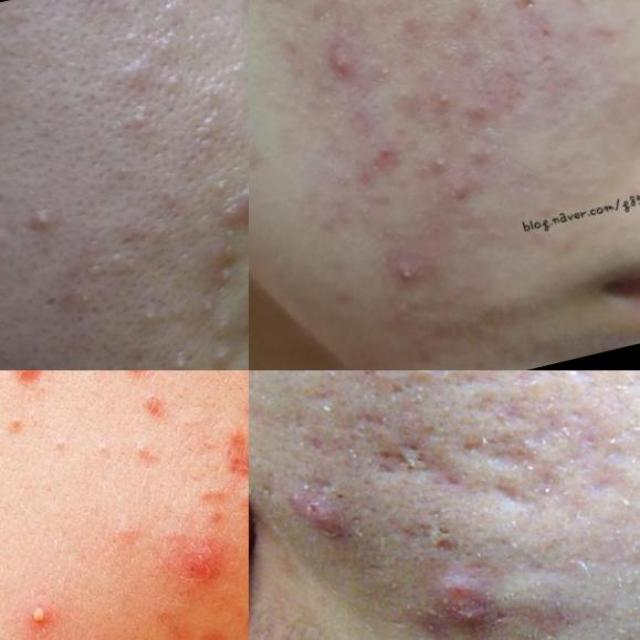acne_scars: (461, 428, 538, 483), (374, 442, 448, 494), (332, 399, 396, 449), (556, 371, 610, 388)
comedone: (171, 105, 239, 164), (104, 101, 165, 151), (398, 370, 450, 399), (0, 407, 29, 448), (233, 112, 249, 183), (394, 259, 429, 291), (426, 149, 456, 180), (425, 80, 463, 104), (87, 434, 116, 463), (373, 56, 400, 86), (175, 382, 200, 402)
papule: (150, 515, 249, 602), (202, 413, 249, 498), (318, 34, 371, 89), (172, 612, 244, 640)
pustule: (19, 189, 75, 247), (184, 287, 244, 332), (125, 295, 172, 348), (17, 596, 68, 637), (149, 343, 198, 370), (12, 370, 53, 394)
sebo-crystan-conglo: (407, 551, 517, 640), (299, 487, 358, 561), (204, 174, 248, 236)
